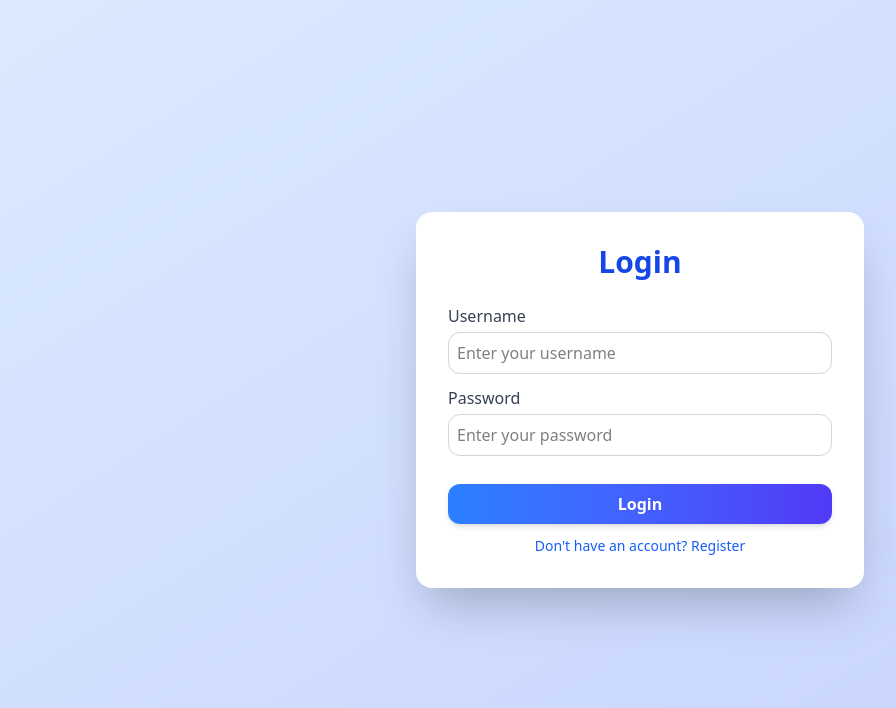
Test case: AuthPage › toggles to register form
The image size is (896, 708).
Click the text "Don't have an account? Register": (640, 546) [535,536,745,555]
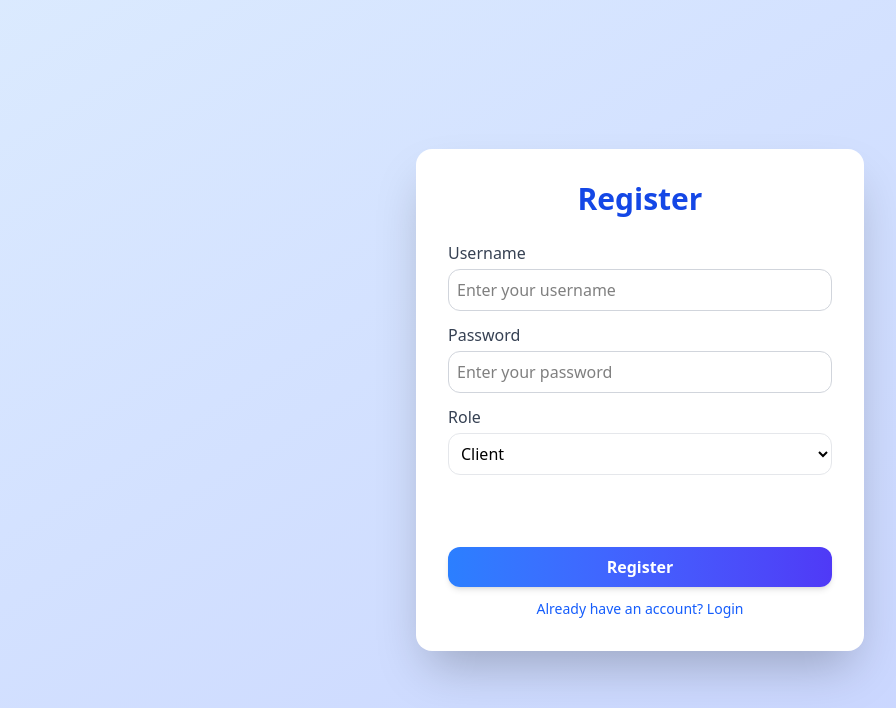
Result: the heading "Register" is shown at [578,178,702,219]
Result: the button "Register" is shown at [448,547,832,587]
Result: the dropdown is shown at [448,433,832,475]
